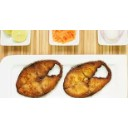seerfish: (15, 58, 63, 96), (66, 61, 111, 96)
